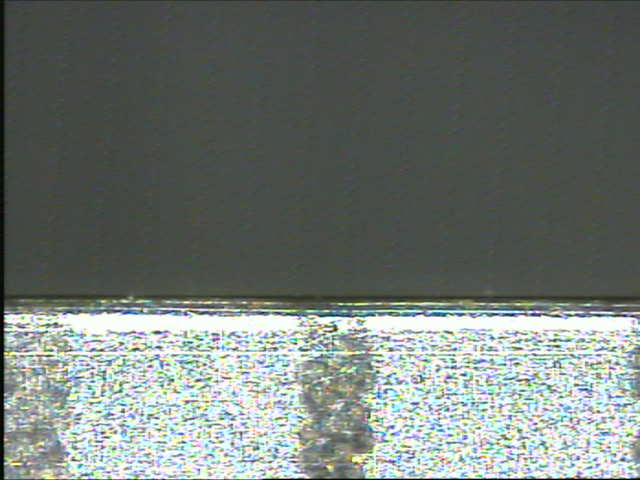line: (292, 317, 377, 474)
